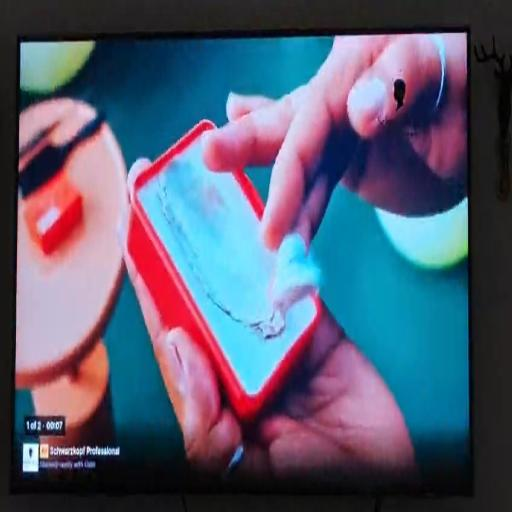ad label: (41, 441, 49, 460)
